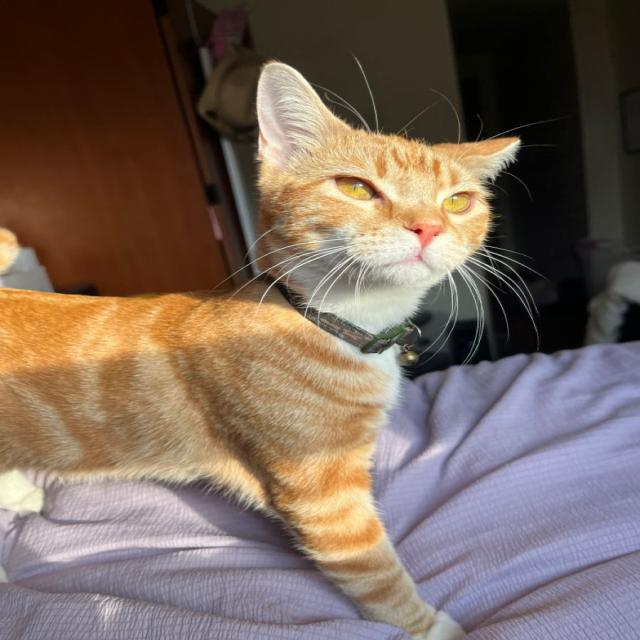sarman: (19, 24, 596, 640)
